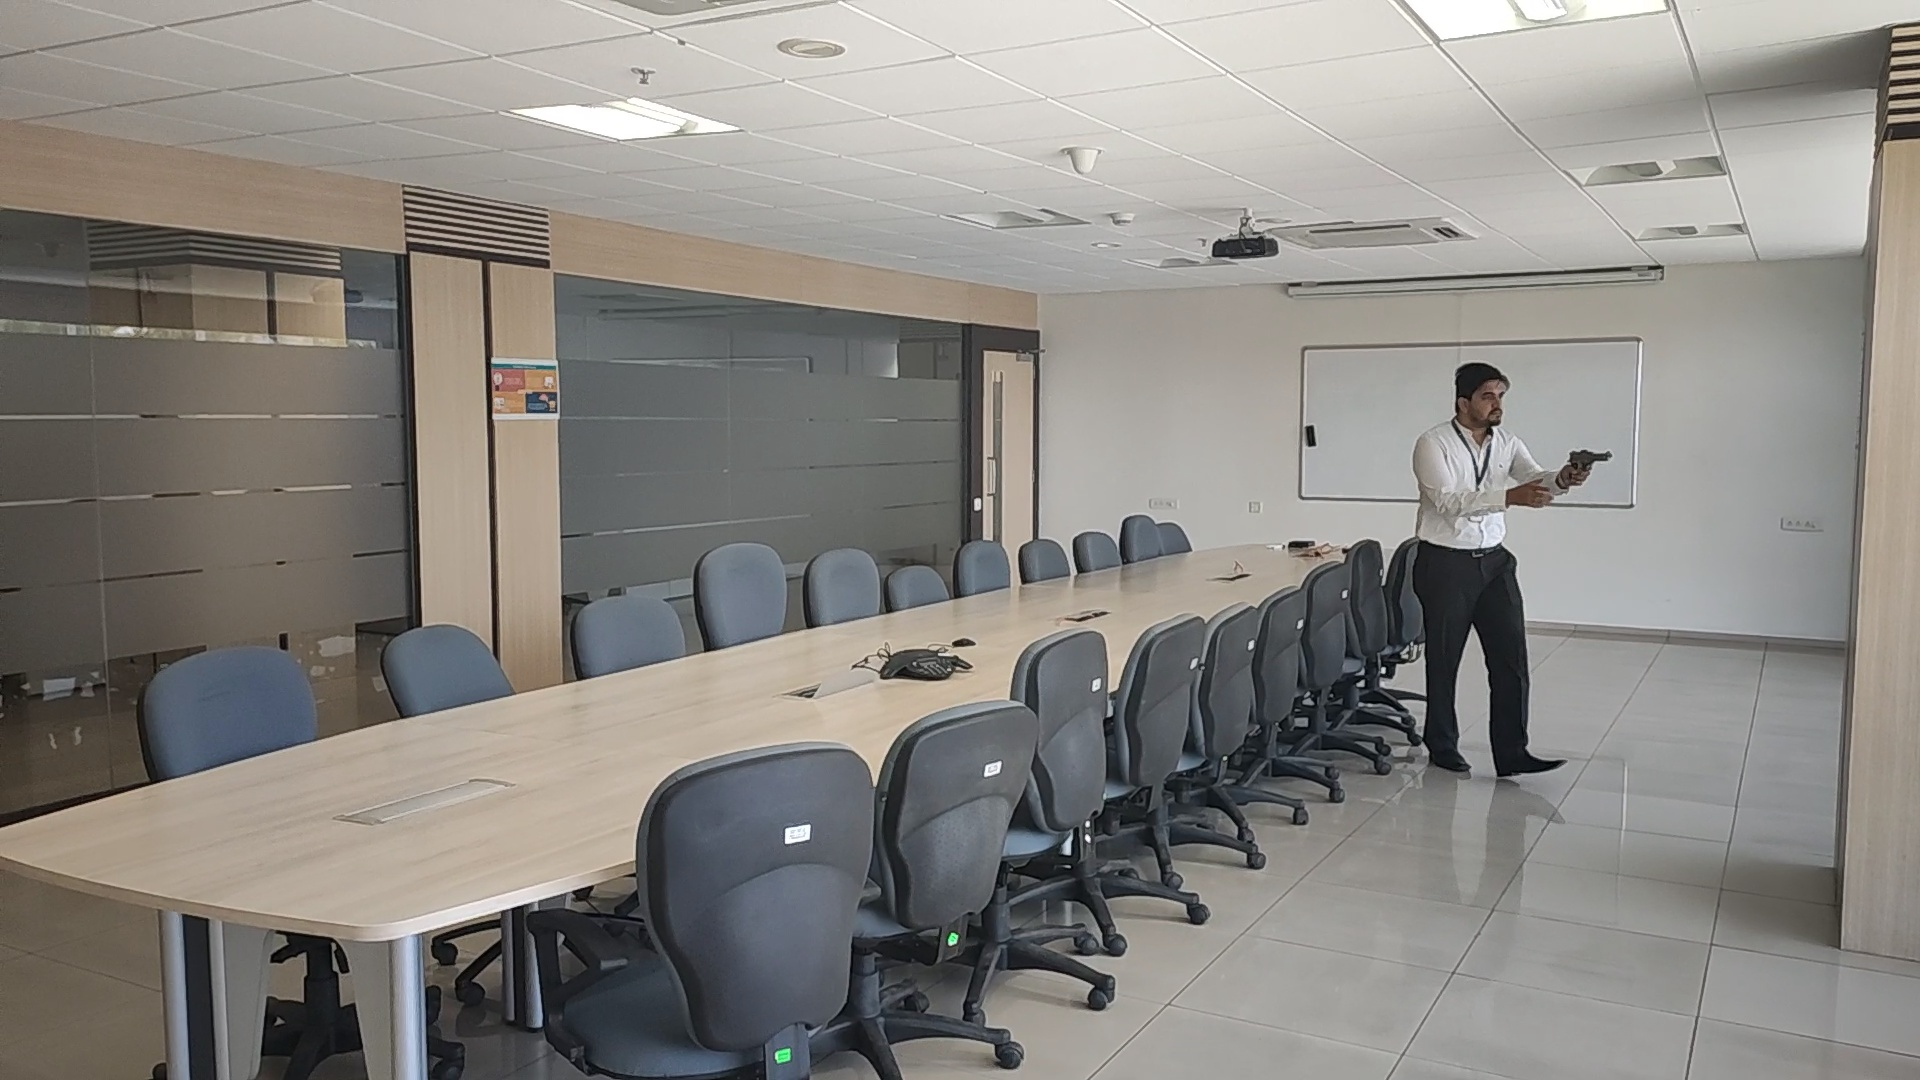gun: (1565, 448, 1611, 463)
